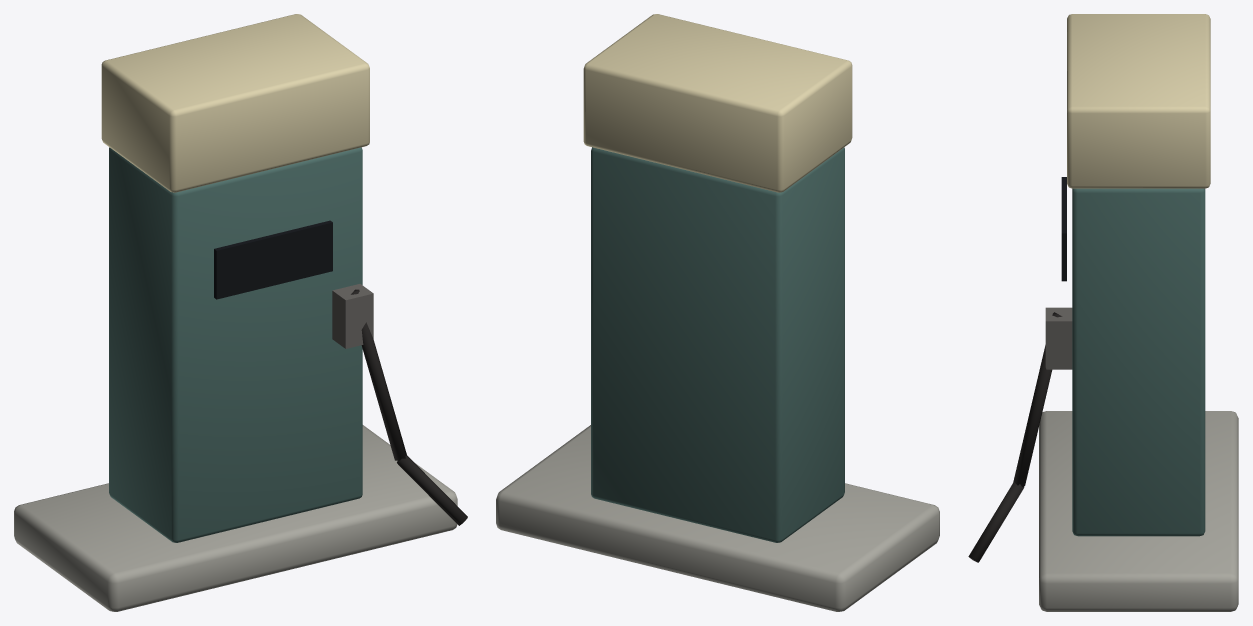
Rendered from cover_pump.glb.
3 views of the same model, side by side, from view 1: azimuth 30°, elevation 25°; view 2: azimuth 150°, elevation 25°; view 3: azimuth 270°, elevation 25° (orthographic).
Parts seen in each view (by area): view 1: body, head, island, window, holster, hose_a, hose_b; view 2: body, head, island; view 3: body, head, island, holster, hose_a, hose_b, window.
Boxes of the visible parts, <box> form: body: <box>109,147,362,542</box>; head: <box>101,14,369,192</box>; island: <box>14,425,457,611</box>; window: <box>214,220,332,299</box>; holster: <box>332,284,373,348</box>; hose_a: <box>351,289,406,460</box>; hose_b: <box>397,455,467,525</box>; body: <box>591,147,844,542</box>; head: <box>583,14,852,192</box>; island: <box>496,425,939,611</box>; body: <box>1072,188,1205,536</box>; head: <box>1067,14,1210,188</box>; island: <box>1039,411,1238,611</box>; holster: <box>1045,307,1072,369</box>; hose_a: <box>1013,312,1062,486</box>; hose_b: <box>968,482,1024,562</box>; window: <box>1061,177,1066,281</box>.
Size of the model in its own units: 1.5 by 1.95 by 1.02.
